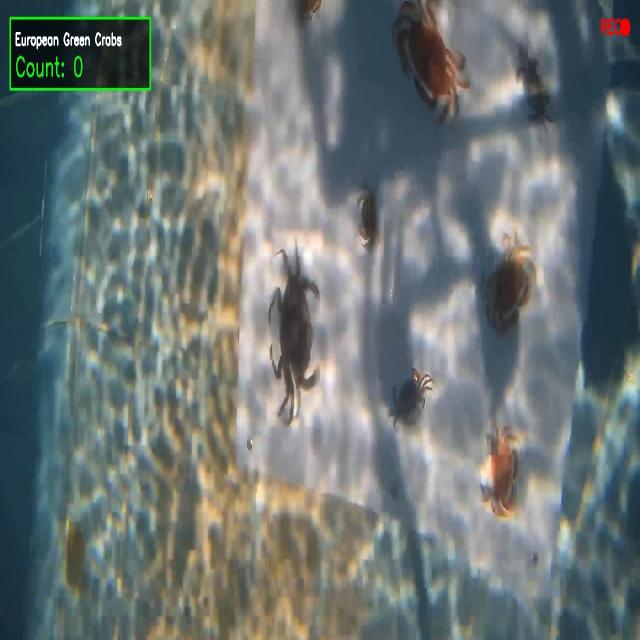European_Green_Crab: (267, 251, 322, 427), (505, 34, 557, 136), (385, 357, 439, 441)
